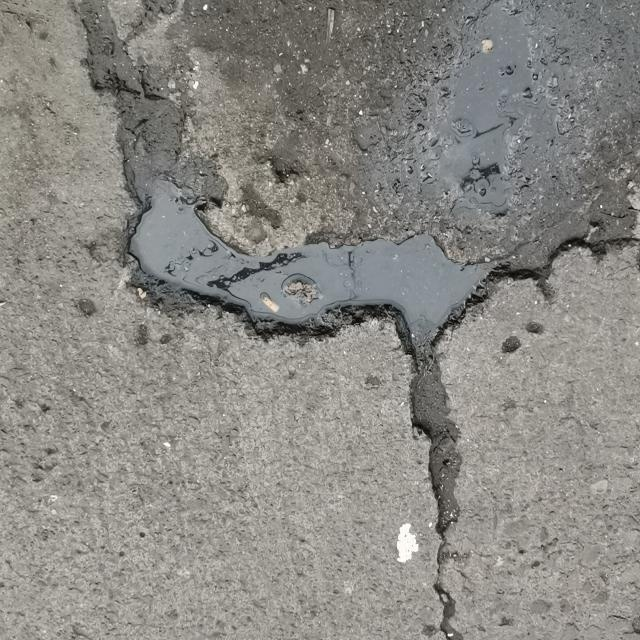pothole: (10, 0, 640, 461)
